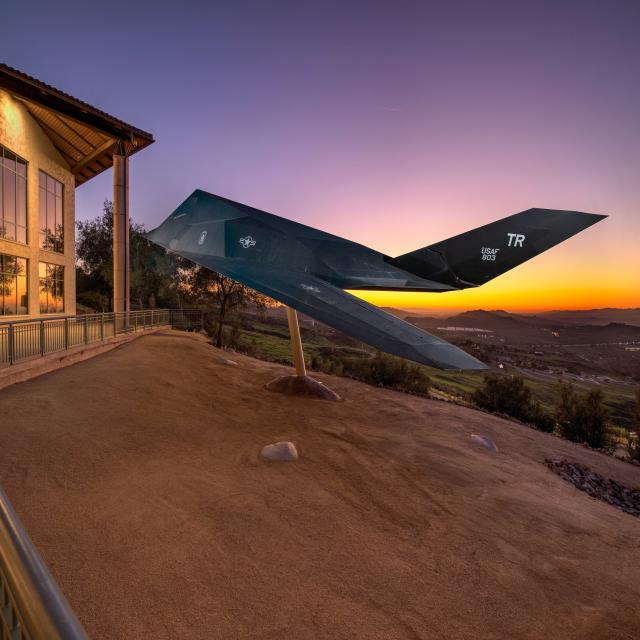F117: (124, 147, 640, 400)
